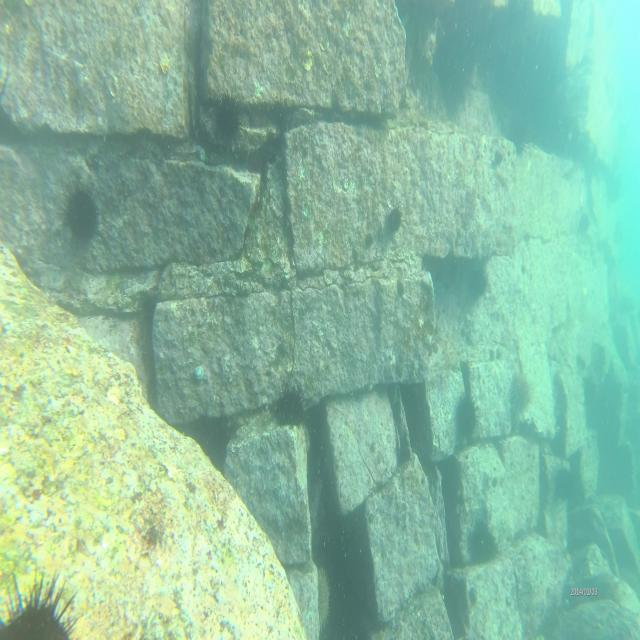echinus: (0, 564, 81, 640), (55, 180, 102, 245), (210, 88, 244, 152), (270, 376, 310, 427), (313, 564, 336, 637), (469, 516, 500, 566), (508, 369, 535, 422), (455, 387, 482, 440), (552, 461, 576, 504), (387, 200, 407, 239), (578, 208, 592, 236)
